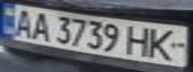3: (84, 18, 106, 51), (51, 12, 72, 46)
7: (66, 16, 87, 47)
9: (100, 20, 124, 54)
A: (6, 7, 39, 38), (27, 9, 54, 42)
H: (124, 24, 154, 57)
K: (145, 25, 184, 62)
